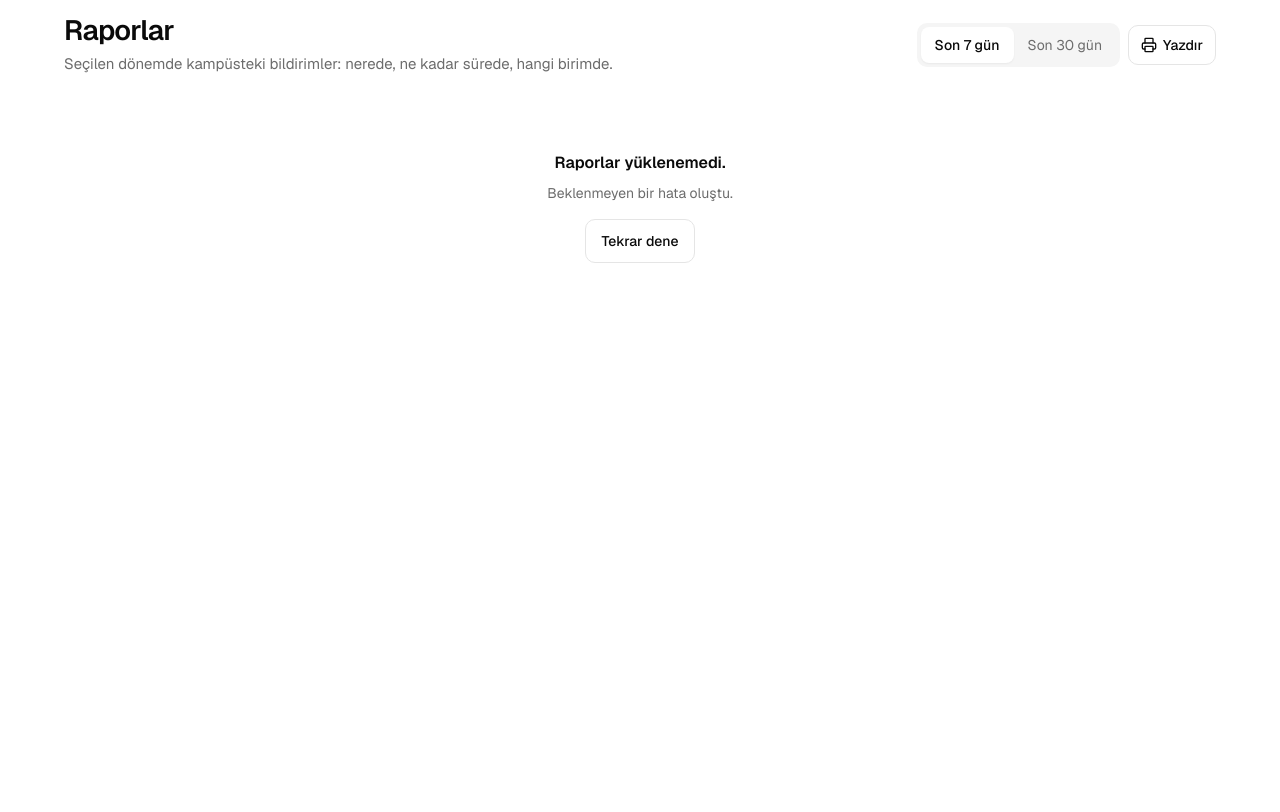
Test: Reports › shows the backend error and loads again on retry
Expected: the message shows "Raporlar yüklenemedi.", [554, 152, 726, 173]
Expected: the message shows "Beklenmeyen bir hata oluştu.", [547, 184, 733, 202]
Click the button "Tekrar dene" at (640, 241), box [584, 219, 695, 263]
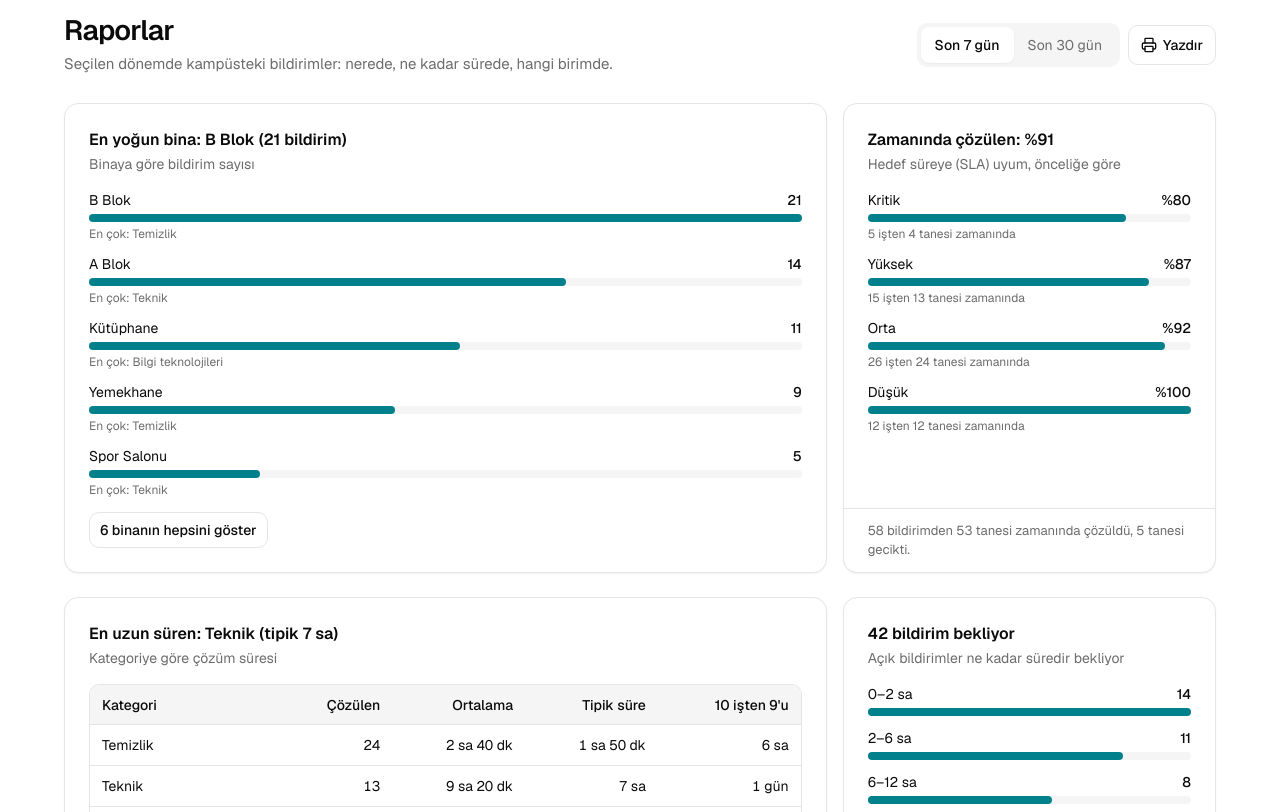
Now the heading "En yoğun bina: B Blok (21 bildirim)" is shown, box [89, 129, 347, 150]
